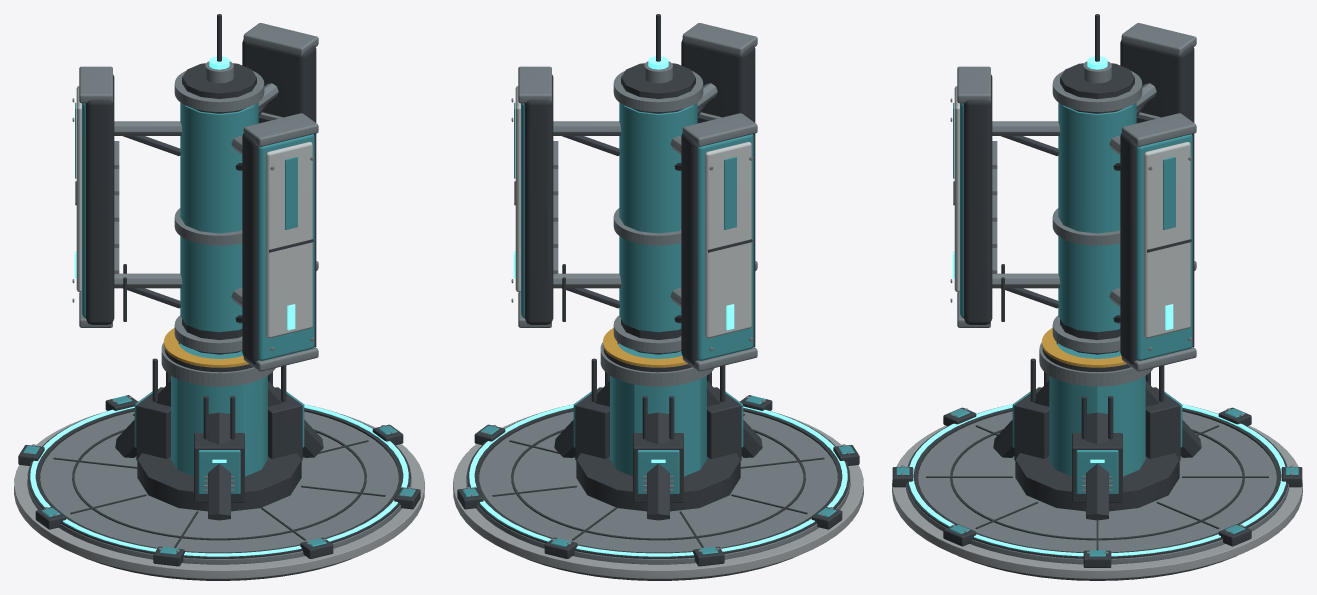
File: relay-tower.glb
3 renders of one model, left to right at view 1: azimuth 30°, elevation 25°; view 2: azimuth 150°, elevation 25°; view 3: azimuth 270°, elevation 25°, orthographic.
Visible parts, largest first — view 1: modelRoot:neutral-metal, modelRoot:structure, antennaYaw:structure, antennaYaw:team-primary, antennaYaw:neutral-metal, antennaYaw:armor, modelRoot:team-primary, modelRoot:foundation-concrete, modelRoot:team-emissive, modelRoot:warning, antennaYaw:team-emissive; view 2: modelRoot:neutral-metal, modelRoot:structure, antennaYaw:structure, antennaYaw:team-primary, antennaYaw:neutral-metal, antennaYaw:armor, modelRoot:team-primary, modelRoot:foundation-concrete, modelRoot:team-emissive, modelRoot:warning, antennaYaw:team-emissive; view 3: modelRoot:neutral-metal, modelRoot:structure, antennaYaw:structure, antennaYaw:team-primary, antennaYaw:neutral-metal, antennaYaw:armor, modelRoot:team-primary, modelRoot:foundation-concrete, modelRoot:team-emissive, modelRoot:warning, antennaYaw:team-emissive.
Boxes of the visible parts, x1,y1,x2,y2 form: modelRoot:neutral-metal: [27, 342, 411, 564]; modelRoot:structure: [18, 342, 420, 580]; antennaYaw:structure: [75, 14, 316, 364]; antennaYaw:team-primary: [75, 102, 314, 360]; antennaYaw:neutral-metal: [72, 23, 318, 371]; antennaYaw:armor: [76, 86, 312, 338]; modelRoot:team-primary: [23, 343, 415, 554]; modelRoot:foundation-concrete: [14, 413, 424, 578]; modelRoot:team-emissive: [30, 404, 408, 556]; modelRoot:warning: [164, 328, 248, 367]; antennaYaw:team-emissive: [74, 56, 295, 330]; modelRoot:neutral-metal: [466, 342, 850, 564]; modelRoot:structure: [457, 342, 859, 580]; antennaYaw:structure: [514, 14, 755, 364]; antennaYaw:team-primary: [514, 102, 753, 360]; antennaYaw:neutral-metal: [511, 23, 757, 371]; antennaYaw:armor: [515, 86, 751, 338]; modelRoot:team-primary: [462, 343, 854, 554]; modelRoot:foundation-concrete: [453, 413, 863, 578]; modelRoot:team-emissive: [469, 404, 847, 556]; modelRoot:warning: [603, 328, 687, 367]; antennaYaw:team-emissive: [513, 56, 734, 330]; modelRoot:neutral-metal: [901, 342, 1293, 564]; modelRoot:structure: [892, 342, 1302, 580]; antennaYaw:structure: [953, 14, 1194, 364]; antennaYaw:team-primary: [953, 102, 1192, 360]; antennaYaw:neutral-metal: [950, 23, 1196, 371]; antennaYaw:armor: [954, 86, 1190, 338]; modelRoot:team-primary: [896, 343, 1298, 556]; modelRoot:foundation-concrete: [892, 425, 1302, 578]; modelRoot:team-emissive: [909, 404, 1285, 556]; modelRoot:warning: [1042, 328, 1126, 367]; antennaYaw:team-emissive: [952, 56, 1173, 330].
Size of the model in its own units: 3.4 by 4.42 by 3.4.
